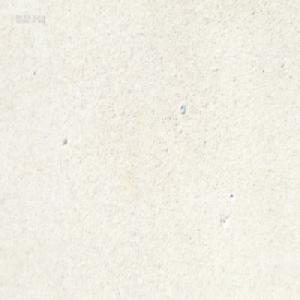Washer: (179, 102, 186, 115)
